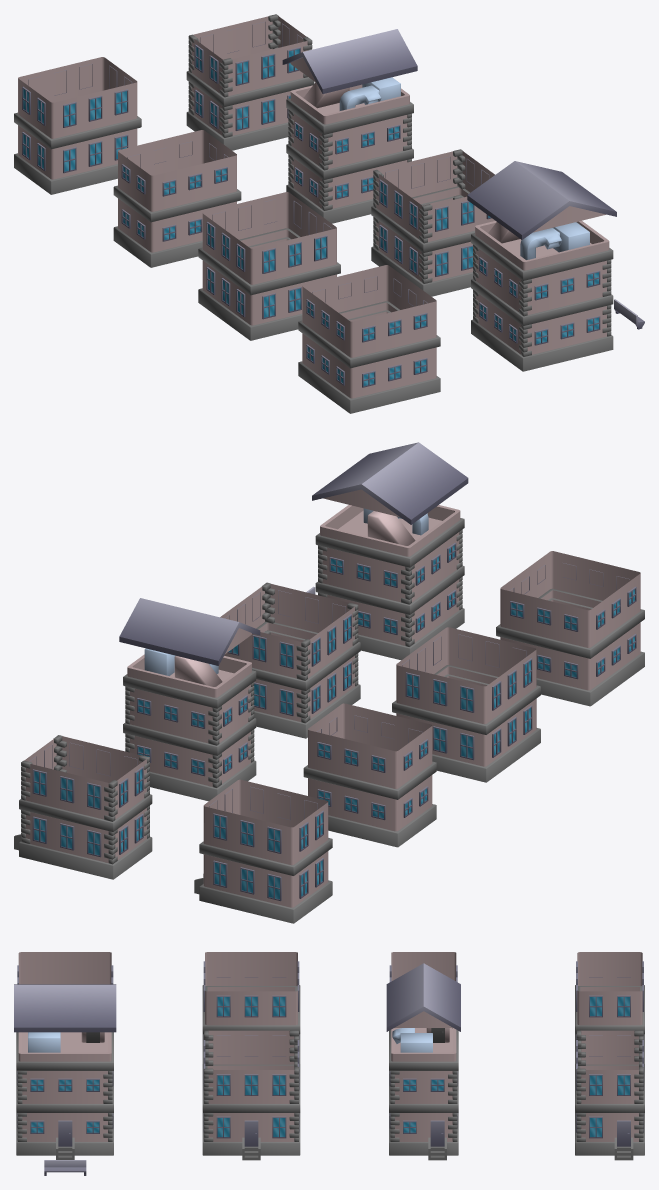
Rendered from BuildingModels.fbx.
3 renders of one model, top to bottom at view 1: azimuth 30°, elevation 25°; view 2: azimuth 150°, elevation 25°; view 3: azimuth 270°, elevation 25°, orthographic. The views are drawn at different scales.
Visible parts, largest first — view 1: Cube.035, Cube.018, Cube.019, Cube.043, Cube.010, Cube.042, Cube.013, Cube.023, Cube.001, Cube.003, Cube.056, Cube.057 (+12 smaller); view 2: Cube.035, Cube.018, Cube.019, Cube.042, Cube.043, Cube.010, Cube.013, Cube.003, Cube.039, Cube.057, Cube.056, Cube.058 (+11 smaller); view 3: Cube.019, Cube.018, Cube.042, Cube.043, Cube.013, Cube.022, Cube.023, Cube.048, Cube.003, Cube.035, Cube.039, Cube.038 (+7 smaller).
Boxes of the visible parts, x1,y1,x2,y2 form: Cube.035: (298, 265, 440, 368); Cube.018: (198, 192, 340, 295); Cube.019: (371, 149, 495, 253); Cube.043: (14, 57, 141, 149); Cube.010: (113, 130, 241, 222); Cube.042: (186, 14, 314, 107); Cube.013: (467, 161, 616, 239); Cube.023: (471, 290, 613, 371); Cube.001: (298, 311, 440, 413); Cube.003: (471, 244, 613, 326); Cube.056: (286, 109, 413, 179); Cube.057: (14, 125, 137, 194); Cube.035: (496, 551, 644, 658); Cube.018: (392, 627, 540, 734); Cube.019: (220, 582, 360, 690); Cube.042: (19, 735, 152, 831); Cube.043: (199, 779, 332, 875); Cube.010: (303, 703, 436, 799); Cube.013: (312, 442, 468, 524); Cube.003: (315, 529, 464, 614); Cube.039: (14, 805, 152, 879); Cube.057: (194, 851, 332, 923); Cube.056: (123, 682, 256, 755); Cube.058: (308, 775, 436, 847); Cube.019: (202, 1030, 300, 1112); Cube.018: (202, 952, 300, 1034); Cube.042: (575, 1030, 644, 1112); Cube.043: (575, 952, 644, 1034); Cube.013: (14, 984, 116, 1032); Cube.022: (202, 1113, 300, 1160); Cube.023: (16, 1113, 113, 1159); Cube.048: (386, 963, 460, 1031); Cube.003: (16, 1070, 113, 1112); Cube.035: (17, 952, 113, 984); Cube.039: (575, 1113, 644, 1160); Cube.038: (389, 1113, 458, 1160).
Size of the model in its own units: 717 by 356 by 1355.
